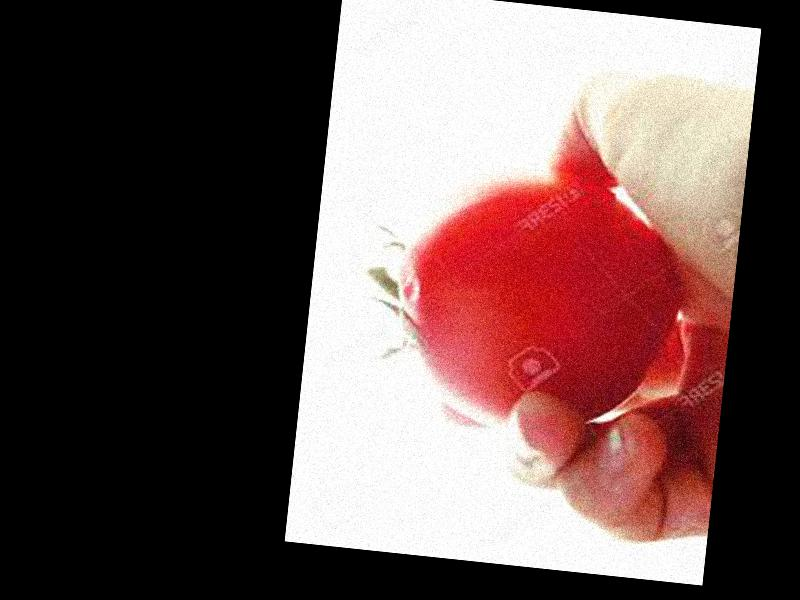Tomato: (381, 159, 686, 446)
